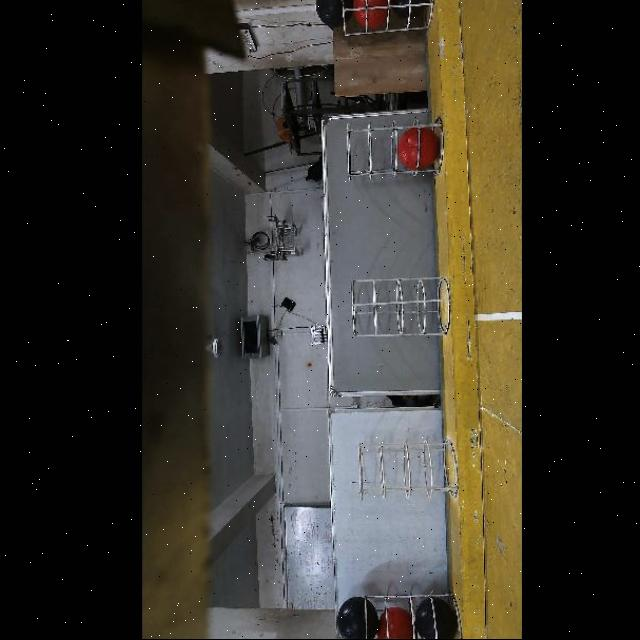P: (412, 598, 456, 640), (335, 598, 377, 640), (314, 0, 351, 28), (389, 0, 426, 19)
R: (397, 129, 438, 170), (375, 608, 412, 640), (351, 0, 386, 29)
S: (351, 439, 452, 501), (346, 116, 446, 176), (348, 289, 444, 339), (367, 594, 457, 640), (336, 1, 432, 42)
